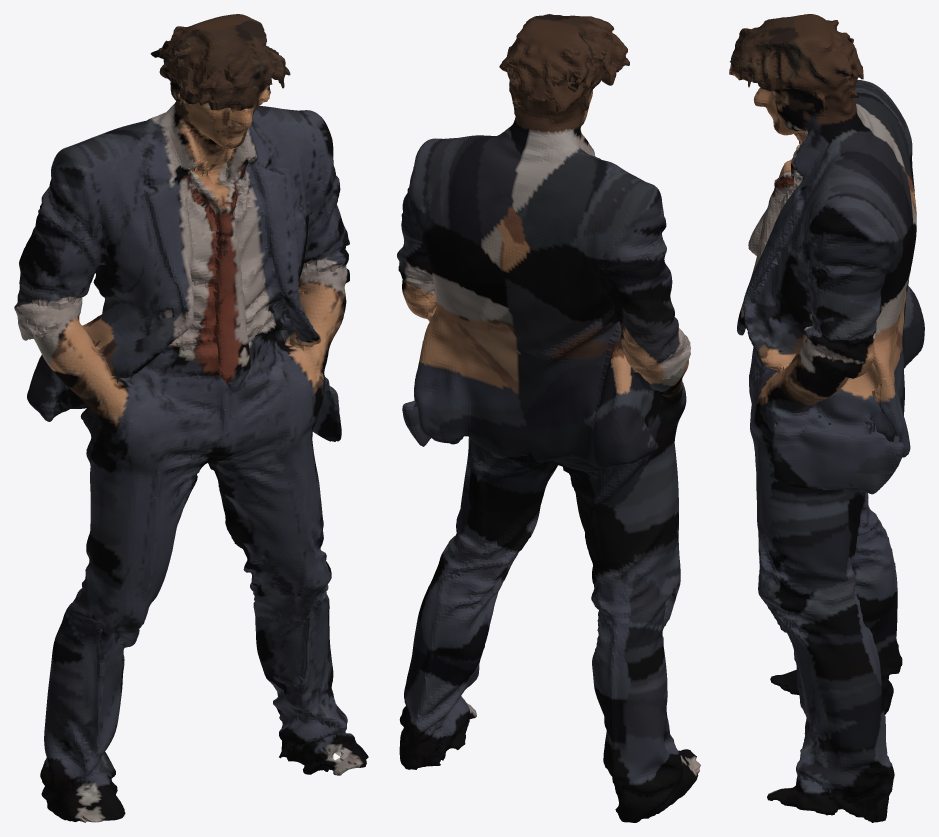
Rendered from frank-a-coloured.glb.
The picture shows the model from 3 angles, left to right: view 1: azimuth 30°, elevation 25°; view 2: azimuth 150°, elevation 25°; view 3: azimuth 270°, elevation 25°; orthographic projection. The views are drawn at different scales.
Parts seen in each view (by area): view 1: Mesh_0; view 2: Mesh_0; view 3: Mesh_0.
Part boxes in pixels (box(x1,y1,x2,y2)): Mesh_0: box(14, 14, 368, 822); Mesh_0: box(397, 14, 700, 822); Mesh_0: box(729, 14, 924, 822).
Size of the model in its own units: 0.8186 by 1.97 by 0.4693.
